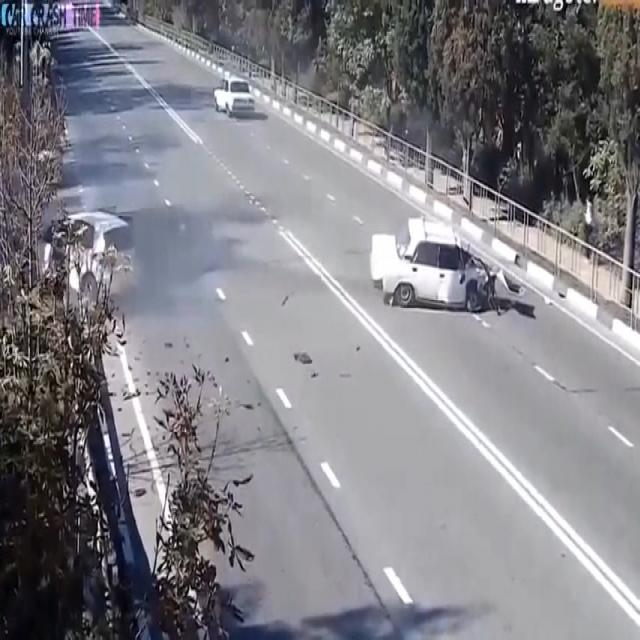Accident: (368, 182, 516, 361), (30, 161, 154, 333)
